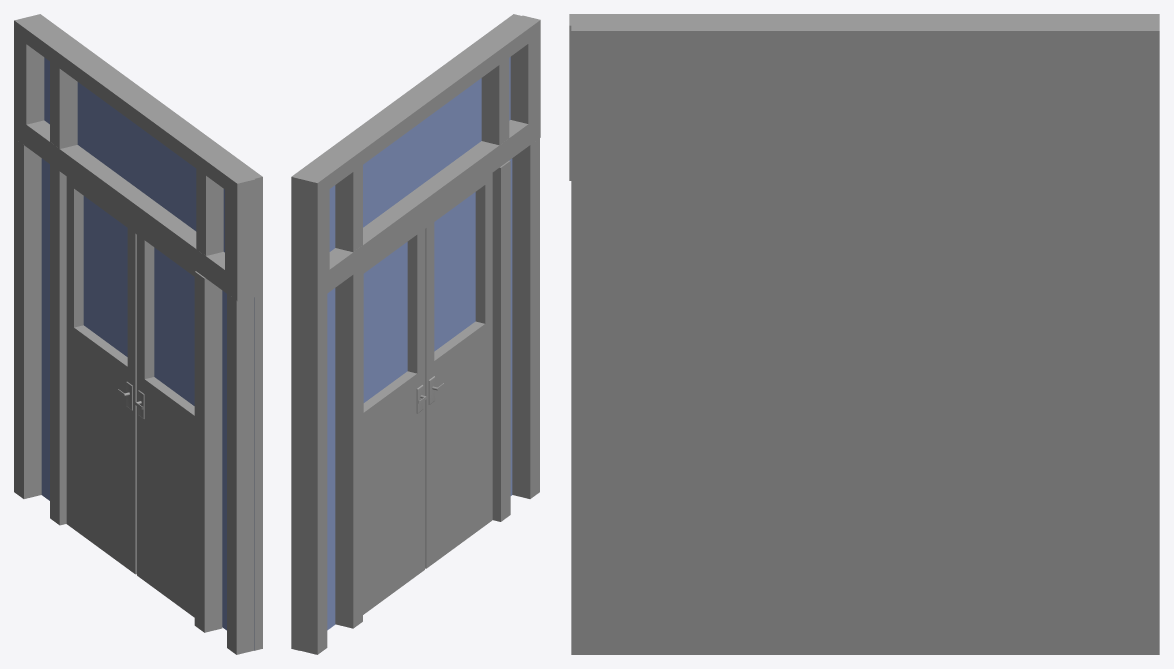
File: Door.fbx
3 views of the same model, side by side, from view 1: azimuth 30°, elevation 25°; view 2: azimuth 150°, elevation 25°; view 3: azimuth 270°, elevation 25° (orthographic). The views are drawn at different scales.
Parts seen in each view (by area): view 1: Door; view 2: Door; view 3: Door.
Part boxes in pixels (x1,y1,x2,y2): Door: [14, 14, 262, 654]; Door: [291, 14, 540, 654]; Door: [569, 14, 1159, 654].
Bounding box in the file's own units: 20.21 × 330 × 283.
